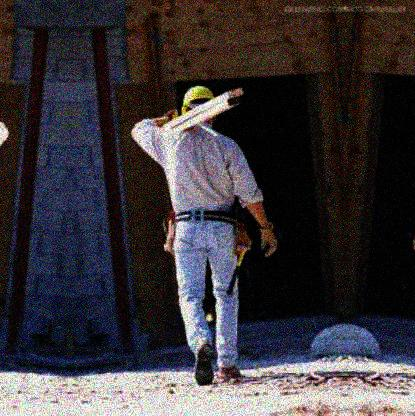helmet: (176, 82, 220, 126)
